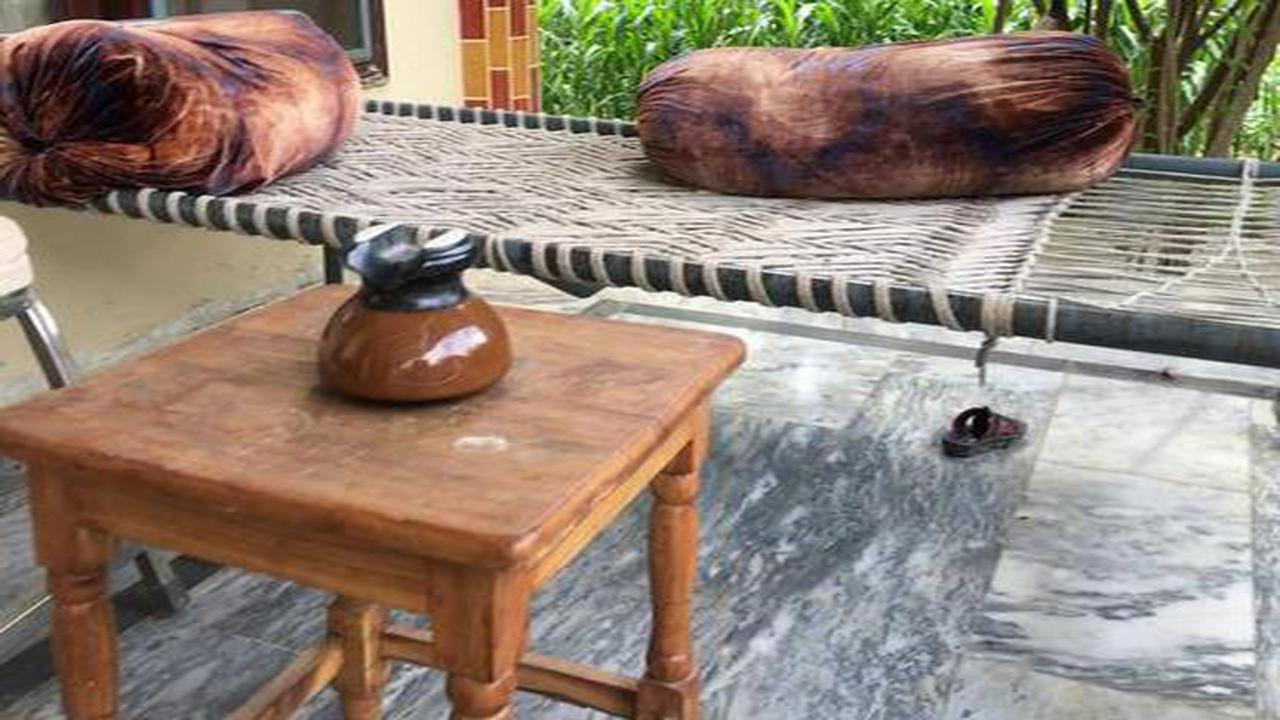insulator_pin: (305, 204, 527, 412)
